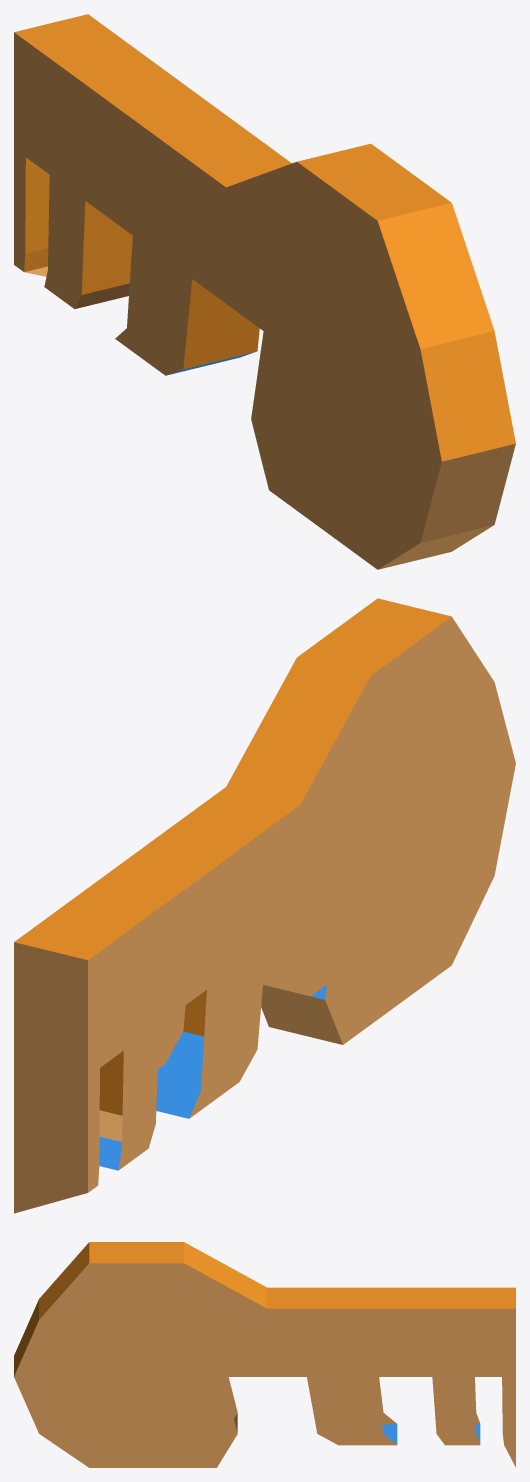
Rendered from key.gltf.
The picture shows the model from 3 angles, top to bottom: view 1: azimuth 30°, elevation 25°; view 2: azimuth 150°, elevation 25°; view 3: azimuth 270°, elevation 25°; orthographic projection. The views are drawn at different scales.
Parts seen in each view (by area): view 1: cuboid; view 2: cuboid; view 3: cuboid.
Part boxes in pixels (bbox=[...]): cuboid: bbox=[14, 14, 515, 569]; cuboid: bbox=[14, 598, 515, 1213]; cuboid: bbox=[14, 1242, 515, 1467].
Size of the model in its own units: 0.0125 by 0.0562 by 0.125.
1 material, 1 textured.
